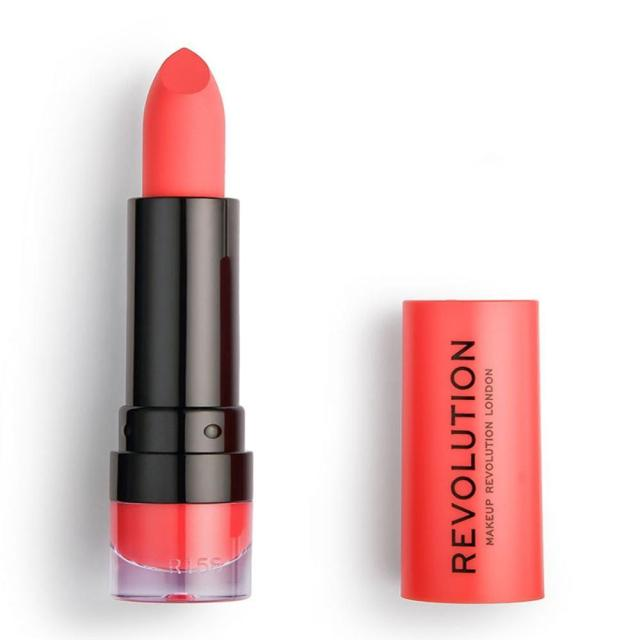lipstick: (82, 41, 310, 603)
